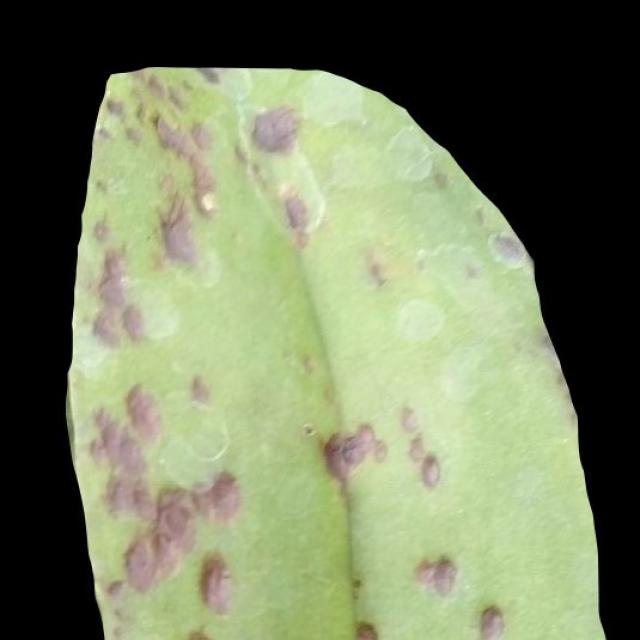mite: (392, 294, 446, 346), (486, 227, 529, 269), (280, 190, 309, 232), (476, 603, 505, 639), (417, 452, 441, 488), (353, 618, 378, 639), (299, 419, 317, 439)
spots: (65, 66, 611, 639)
